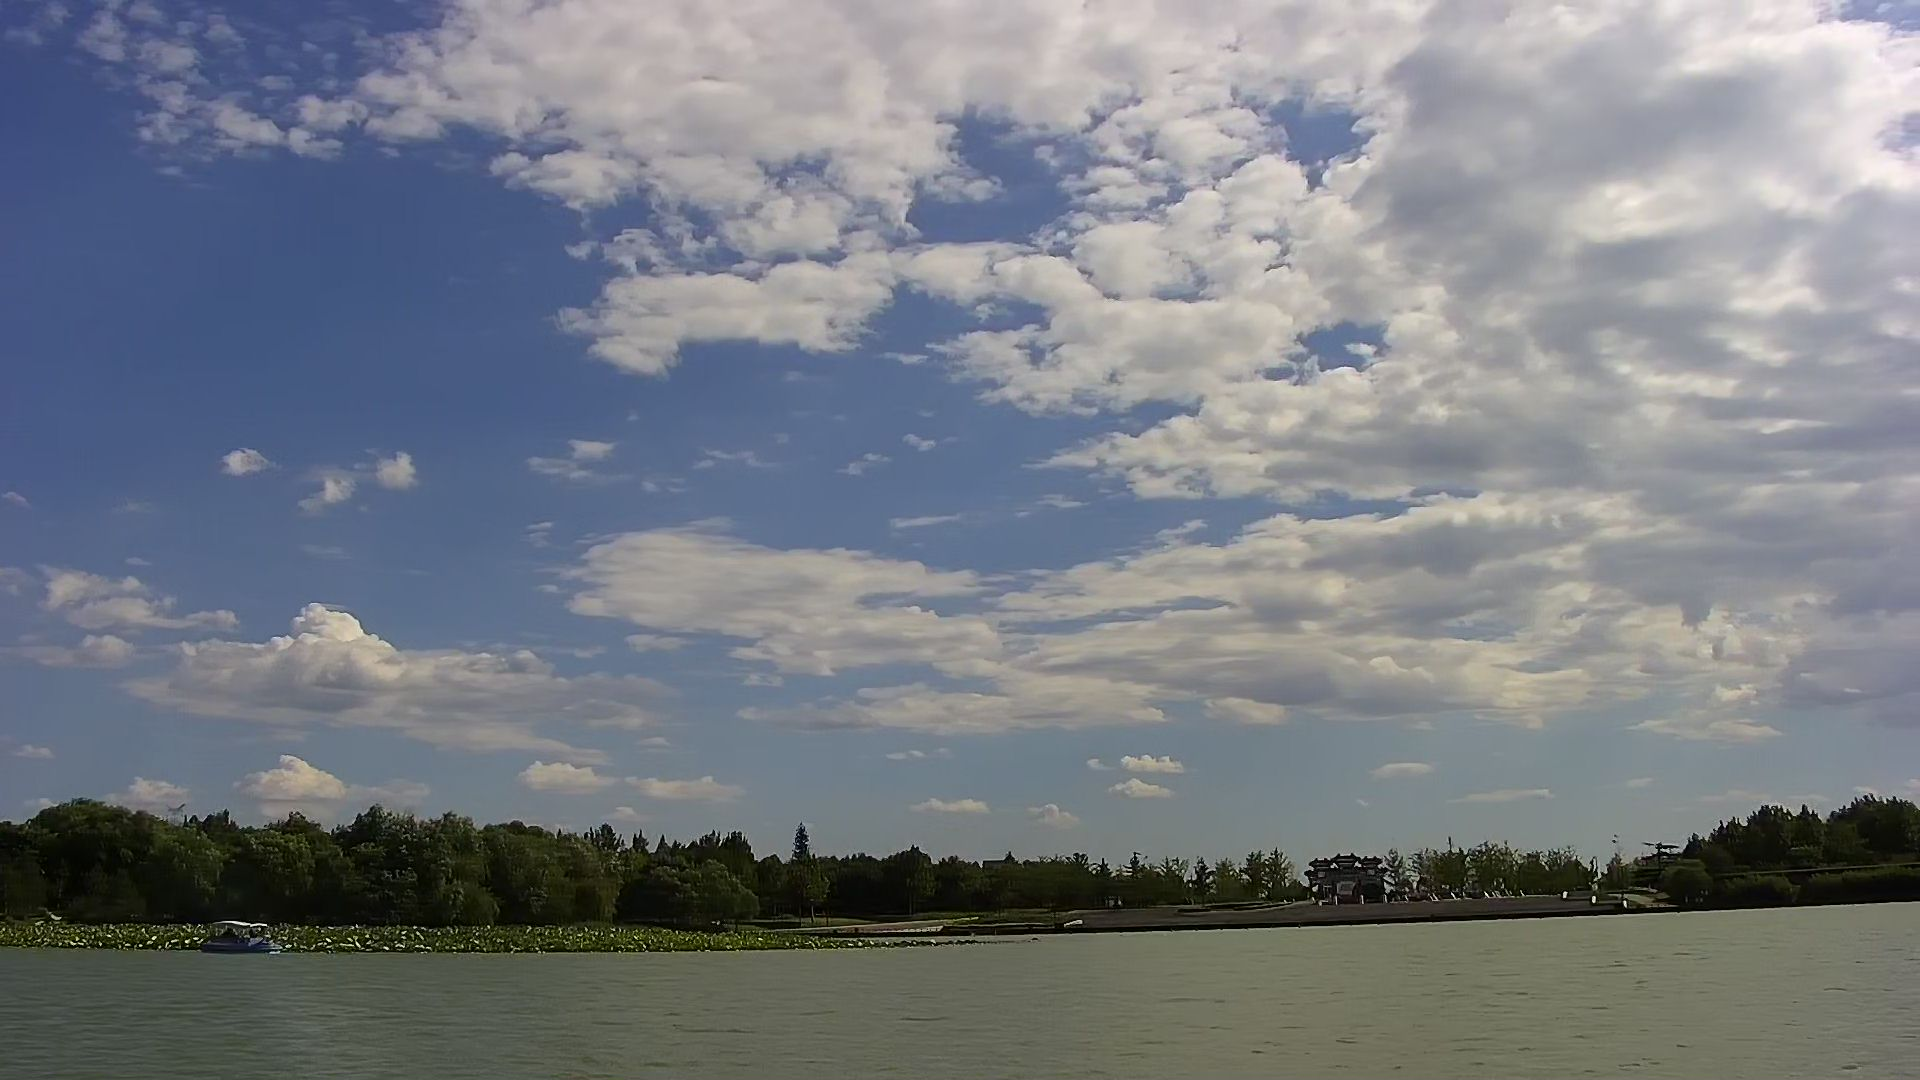boat: (195, 916, 285, 959)
harbor: (1004, 878, 1676, 934)
